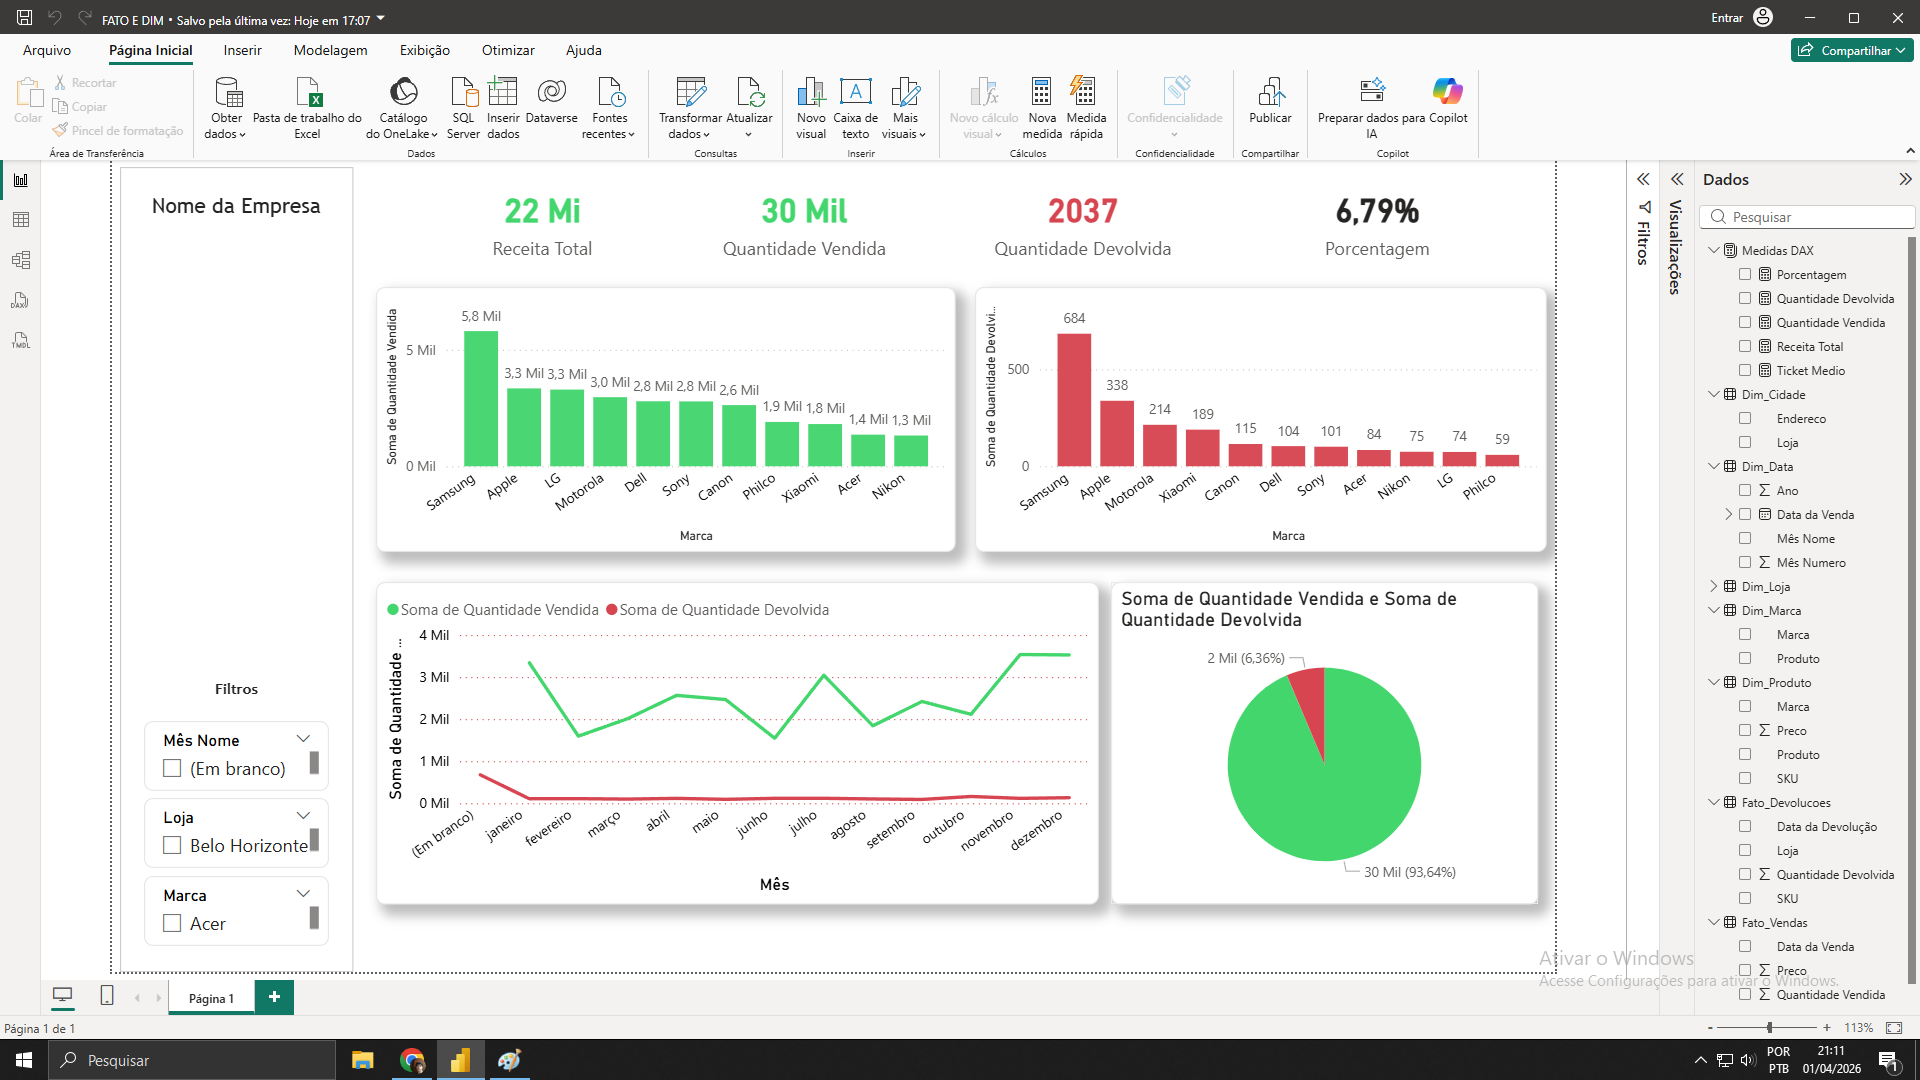

Layout of this report page (visuals, bound fields, positions):
{"tool":"powerbi","page":{"name":"Página 1","canvas":[1280,720],"ordinal":0},"visuals":[{"type":"card","fields":{"Values":["Medidas DAX.Quantidade Devolvida"]},"box":[728.9,6.2,264.2,94.9],"z":0},{"type":"card","fields":{"Values":["Medidas DAX.Rec. Total"]},"box":[256.3,6.2,250.9,94.9],"z":1000},{"type":"columnChart","fields":{"Y":["Sum(Fato_Vendas.Quantidade Vendida)"],"Category":["Dim_Produto.Marca"]},"box":[234.1,112.6,514.3,235],"z":2000},{"type":"columnChart","fields":{"Y":["Sum(Fato_Devolucoes.Quantidade Devolvida)"],"Category":["Dim_Produto.Marca"]},"box":[765.2,112.6,507.2,235],"z":3000},{"type":"card","fields":{"Values":["Medidas DAX.Quantidade Vendida"]},"box":[507.2,6.2,213.7,94.9],"z":4000},{"type":"slicer","fields":{"Values":["Dim_Loja.Loja"]},"box":[28.4,565.7,164,62.1],"z":5000},{"type":"slicer","fields":{"Values":["Dim_Produto.Marca"]},"box":[28.4,634.9,164,62.1],"z":6000},{"type":"slicer","fields":{"Values":["Dim_Data.Mês Nome"]},"box":[28.4,497.4,164,62.1],"z":7000},{"type":"areaChart","fields":{"Category":["Dim_Data.Data da Venda.Variation.Hierarquia de datas.Mês"],"Y":["Sum(Fato_Vendas.Quantidade Vendida)","Sum(Fato_Devolucoes.Quantidade Devolvida)"]},"box":[234.1,374.2,641.1,285.5],"z":8000},{"type":"pieChart","fields":{"Y":["Sum(Fato_Vendas.Quantidade Vendida)","Sum(Fato_Devolucoes.Quantidade Devolvida)"]},"box":[885.8,374.2,378.6,285.5],"z":9000},{"type":"textbox","box":[7.1,6.2,206.6,713.8],"z":10000},{"type":"card","fields":{"Values":["Medidas DAX.Porcentagem"]},"box":[1003.7,6.2,236.7,94.9],"z":11000}]}

Visuals, with their boxes on the page's 1280x720 design canvas (x1, y1, x2, y2). These are canvas units, not pixel positions in the 1920x1080 screenshot, which may show the page scaled, cropped or inside an application window:
card - Medidas DAX.Quantidade Devolvida: {"x1": 729, "y1": 6, "x2": 993, "y2": 101}
card - Medidas DAX.Rec. Total: {"x1": 256, "y1": 6, "x2": 507, "y2": 101}
columnChart - Sum(Fato_Vendas.Quantidade Vendida) x Dim_Produto.Marca: {"x1": 234, "y1": 113, "x2": 748, "y2": 348}
columnChart - Sum(Fato_Devolucoes.Quantidade Devolvida) x Dim_Produto.Marca: {"x1": 765, "y1": 113, "x2": 1272, "y2": 348}
card - Medidas DAX.Quantidade Vendida: {"x1": 507, "y1": 6, "x2": 721, "y2": 101}
slicer - Dim_Loja.Loja: {"x1": 28, "y1": 566, "x2": 192, "y2": 628}
slicer - Dim_Produto.Marca: {"x1": 28, "y1": 635, "x2": 192, "y2": 697}
slicer - Dim_Data.Mês Nome: {"x1": 28, "y1": 497, "x2": 192, "y2": 560}
areaChart - Dim_Data.Data da Venda.Variation.Hierarquia de datas.Mês x Sum(Fato_Vendas.Quantidade Vendida): {"x1": 234, "y1": 374, "x2": 875, "y2": 660}
pieChart - Sum(Fato_Vendas.Quantidade Vendida) x Sum(Fato_Devolucoes.Quantidade Devolvida): {"x1": 886, "y1": 374, "x2": 1264, "y2": 660}
textbox: {"x1": 7, "y1": 6, "x2": 214, "y2": 720}
card - Medidas DAX.Porcentagem: {"x1": 1004, "y1": 6, "x2": 1240, "y2": 101}
